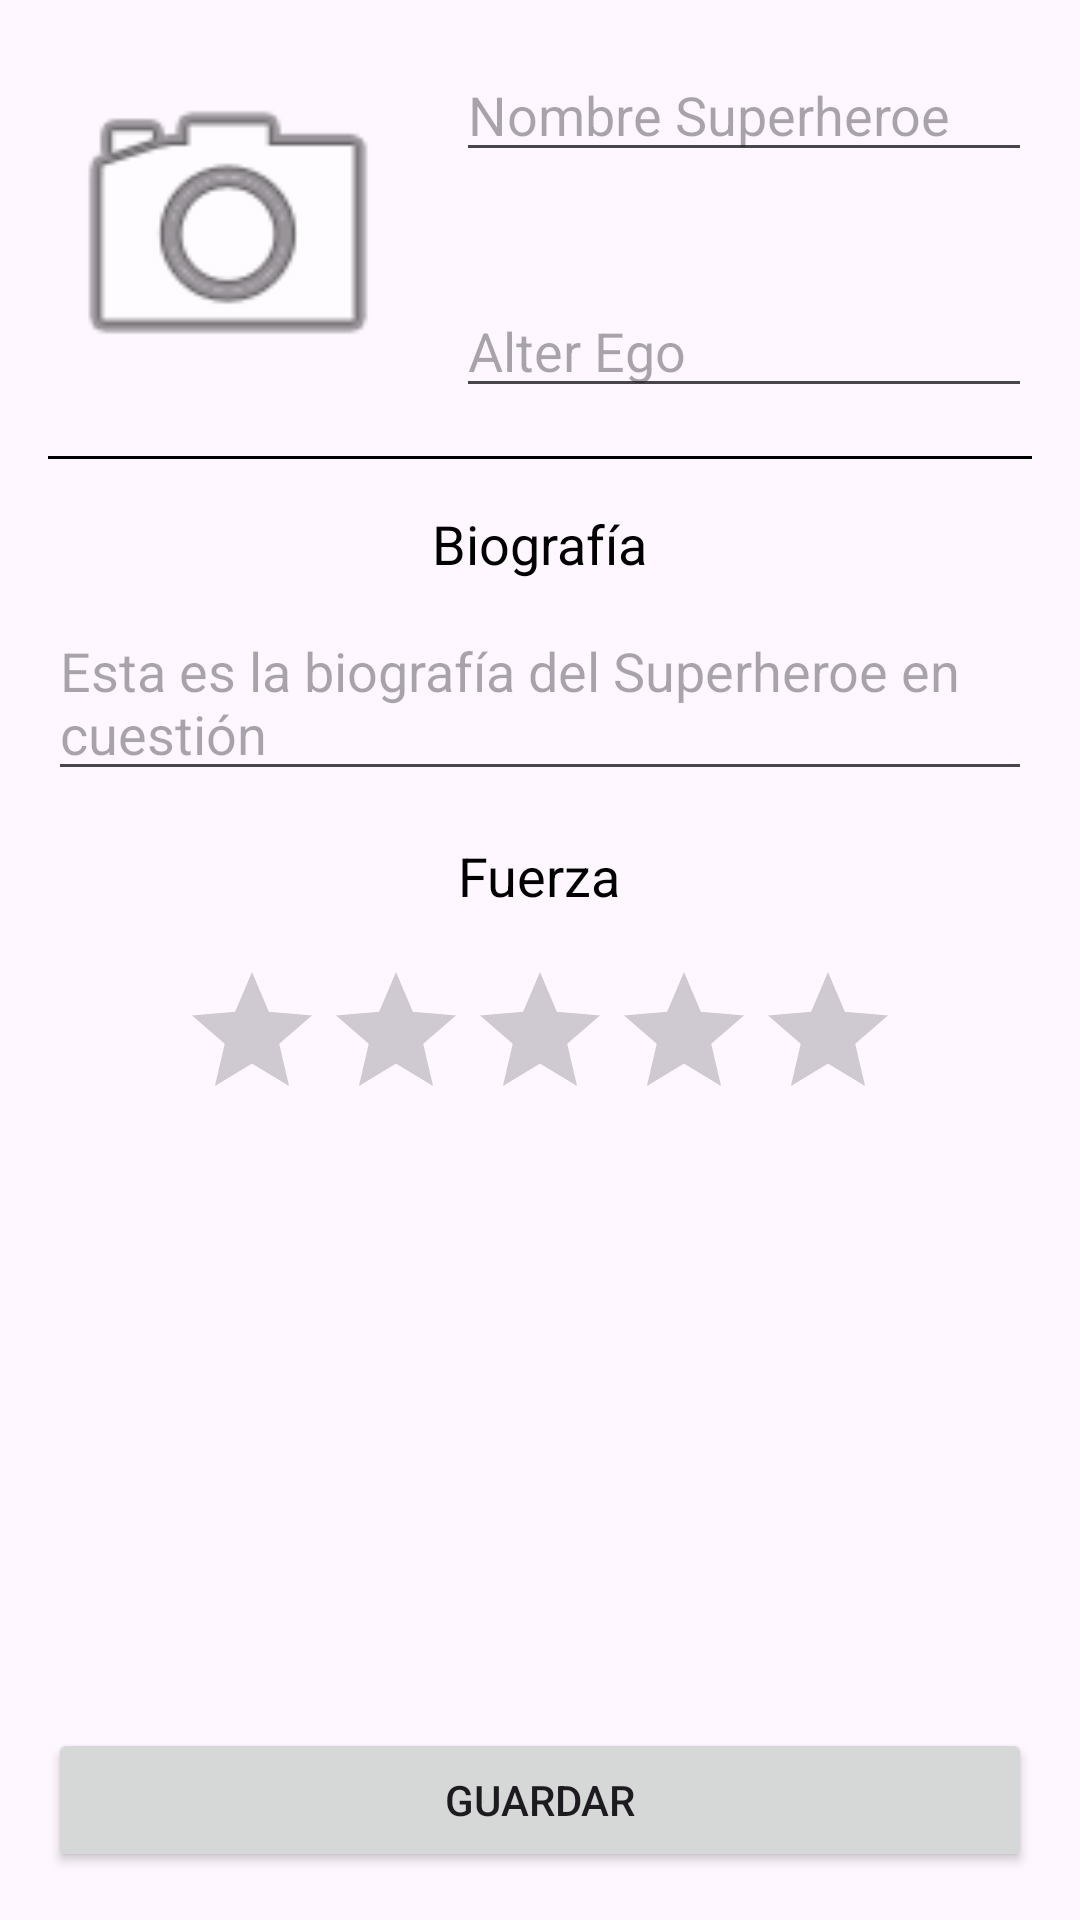

Icons on this 1080×1920 Android screen, each with its box as (x1, y1, x2, y2):
camera: (89, 111, 367, 333)
